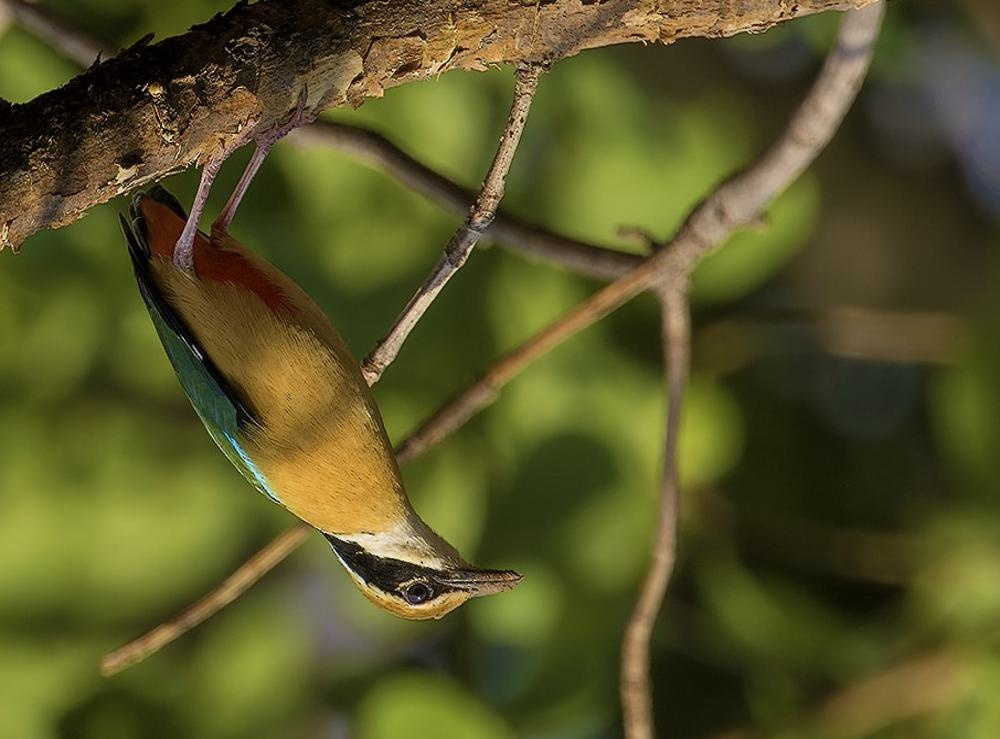pitta: (106, 131, 548, 650)
